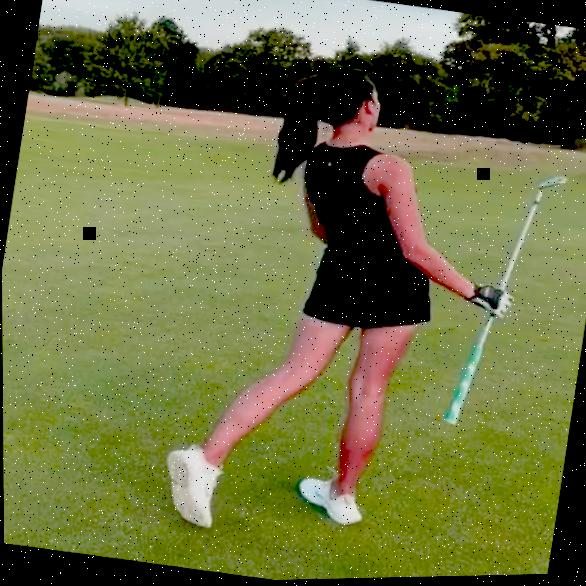ClubHead: (535, 175, 568, 198)
